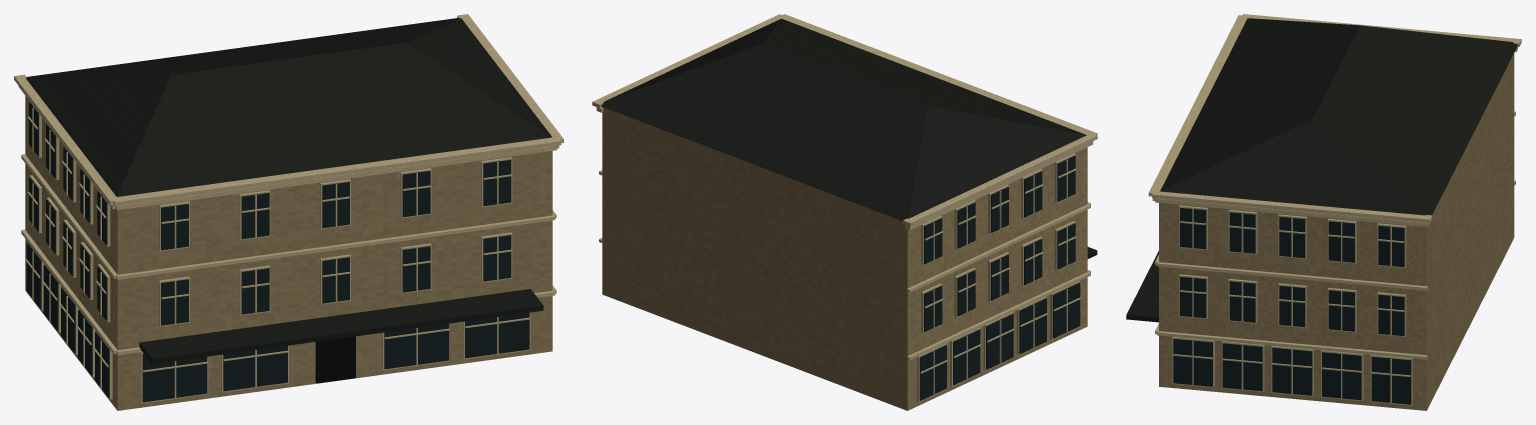
The picture shows the model from 3 angles, left to right: view 1: azimuth 30°, elevation 25°; view 2: azimuth 150°, elevation 25°; view 3: azimuth 270°, elevation 25°; orthographic projection. The views are drawn at different scales.
Parts seen in each view (by area): view 1: cafetaria-ruttens-1, cafetaria-ruttens-0, cafetaria-ruttens-3, cafetaria-ruttens-2, cafetaria-ruttens-4; view 2: cafetaria-ruttens-0, cafetaria-ruttens-1, cafetaria-ruttens-2, cafetaria-ruttens-3; view 3: cafetaria-ruttens-1, cafetaria-ruttens-0, cafetaria-ruttens-3, cafetaria-ruttens-2.
Part boxes in pixels (bbox=[...]): cafetaria-ruttens-1: bbox=[25, 18, 551, 364]; cafetaria-ruttens-0: bbox=[25, 96, 552, 410]; cafetaria-ruttens-3: bbox=[26, 102, 529, 402]; cafetaria-ruttens-2: bbox=[14, 14, 563, 403]; cafetaria-ruttens-4: bbox=[315, 336, 355, 383]; cafetaria-ruttens-0: bbox=[602, 107, 1087, 410]; cafetaria-ruttens-1: bbox=[601, 18, 1097, 258]; cafetaria-ruttens-2: bbox=[592, 14, 1097, 402]; cafetaria-ruttens-3: bbox=[919, 155, 1080, 400]; cafetaria-ruttens-1: bbox=[1126, 18, 1517, 322]; cafetaria-ruttens-0: bbox=[1159, 53, 1514, 410]; cafetaria-ruttens-3: bbox=[1173, 207, 1411, 404]; cafetaria-ruttens-2: bbox=[1148, 14, 1521, 405].
Size of the model in its own units: 28.45 by 15.5 by 23.1.
Materials: 5 (5 with a texture image).
